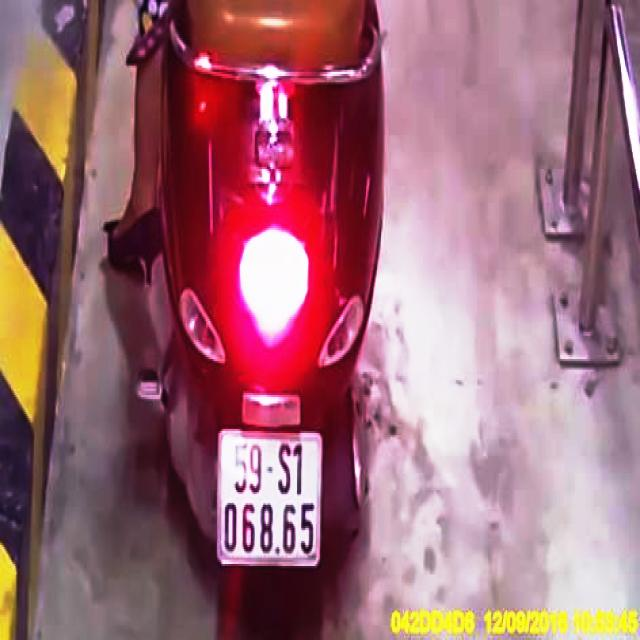license_plate: (222, 433, 322, 565)
